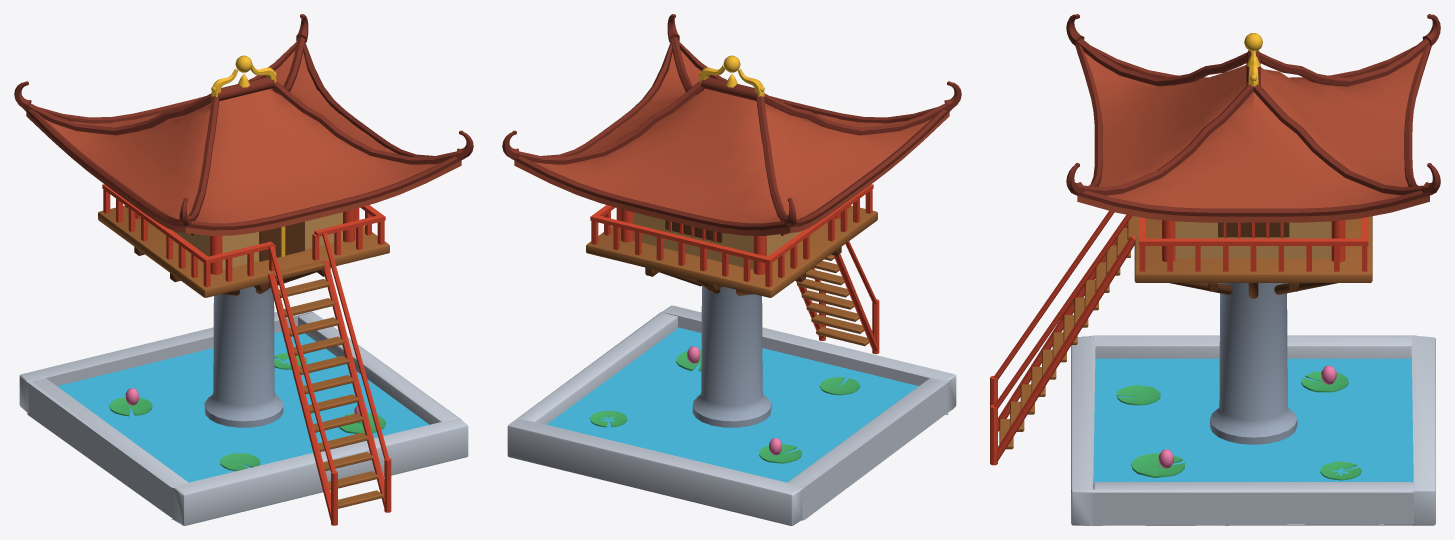
Rendered from pagoda.glb.
3 renders of one model, left to right at view 1: azimuth 30°, elevation 25°; view 2: azimuth 150°, elevation 25°; view 3: azimuth 270°, elevation 25°, orthographic. The views are drawn at different scales.
Parts seen in each view (by area): view 1: pagoda; view 2: pagoda; view 3: pagoda.
Part boxes in pixels (bbox=[...]): pagoda: bbox=[14, 14, 473, 525]; pagoda: bbox=[502, 14, 961, 525]; pagoda: bbox=[990, 14, 1440, 525].
Bounding box in the file's own units: 4.72 × 5.78 × 5.68.
